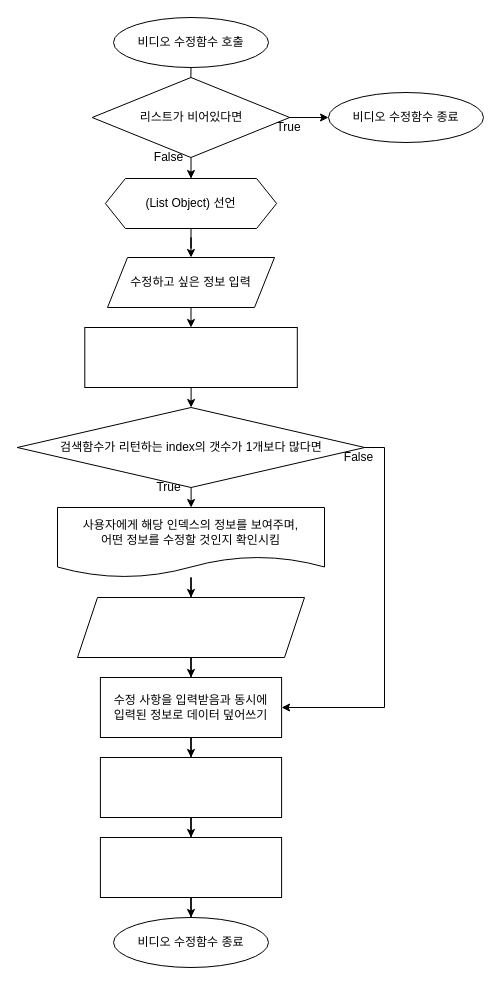
Image size: 502x985. Some labels were removed from this diagram. Here are the shapes that lost their labels. From the top down, the centre of each, then its label:
At point 190,357: "기존에 구현해둔 검색함수에 List, 지금 선언한 Object, Stack을 전달".
At point 190,627: "수정할 정보의 인덱스 입력받음".
At point 190,787: "데이터 이름 순 정렬".
At point 190,867: "자동 저장함수 실행".
